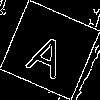A: (24, 25, 74, 80)
